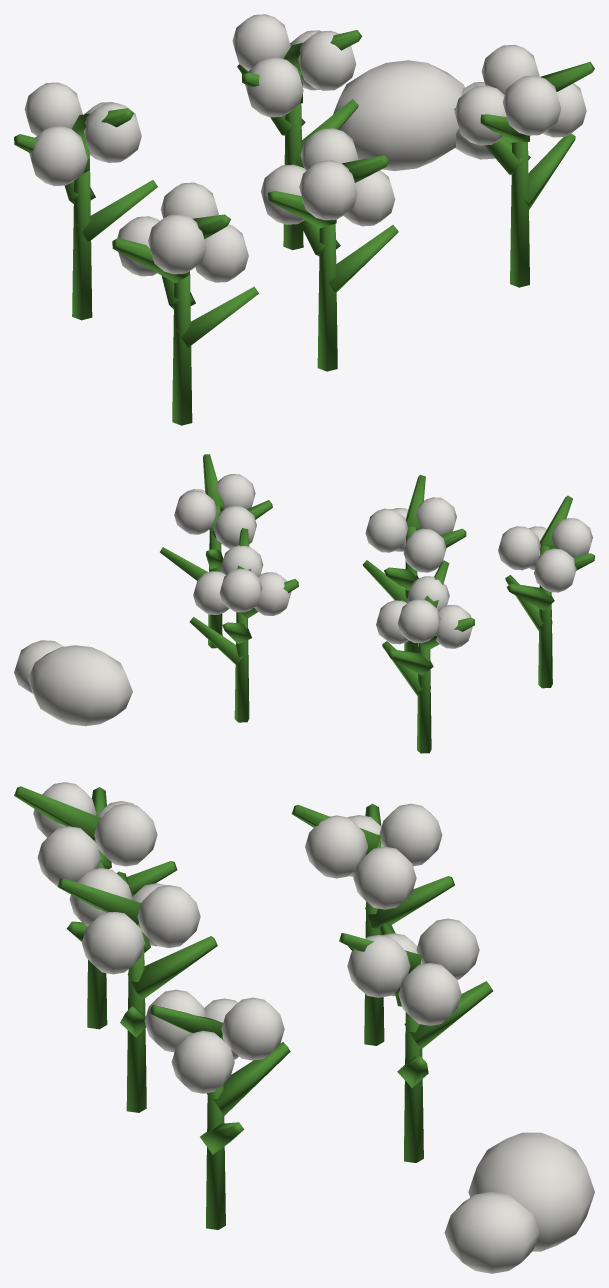
The model's file is resource_cotton.fbx.
The picture shows the model from 3 angles, top to bottom: view 1: azimuth 30°, elevation 25°; view 2: azimuth 150°, elevation 25°; view 3: azimuth 270°, elevation 25°; orthographic projection. The views are drawn at different scales.
Parts seen in each view (by area): view 1: resource_cotton_cotton_01, resource_cotton_cotleaf_00; view 2: resource_cotton_cotton_01, resource_cotton_cotleaf_00; view 3: resource_cotton_cotton_01, resource_cotton_cotleaf_00.
Boxes of the visible parts, x1,y1,x2,y2 form: resource_cotton_cotton_01: [24, 14, 586, 282]; resource_cotton_cotleaf_00: [14, 30, 594, 425]; resource_cotton_cotton_01: [14, 474, 592, 726]; resource_cotton_cotleaf_00: [160, 454, 594, 753]; resource_cotton_cotton_01: [33, 782, 594, 1273]; resource_cotton_cotleaf_00: [14, 786, 492, 1229].
Size of the model in its own units: 91.4 by 33.68 by 73.38.
